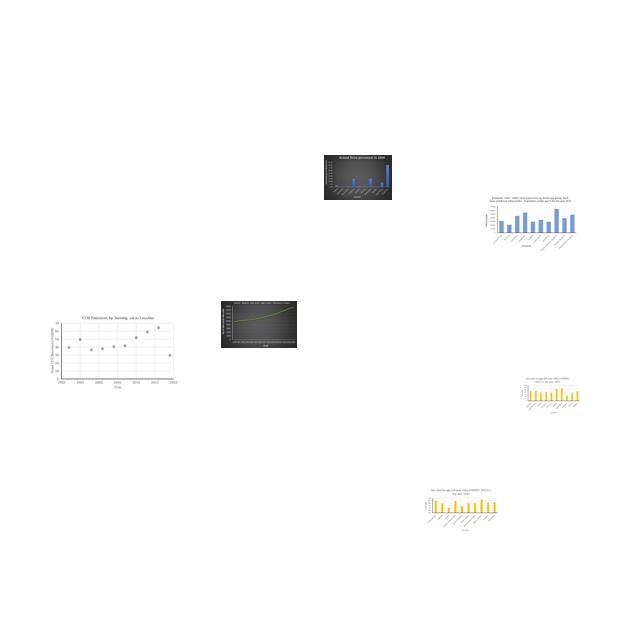Graph: (49, 314, 179, 390), (485, 196, 579, 252), (221, 301, 297, 348), (423, 488, 499, 532), (324, 155, 392, 200), (519, 375, 581, 416)
